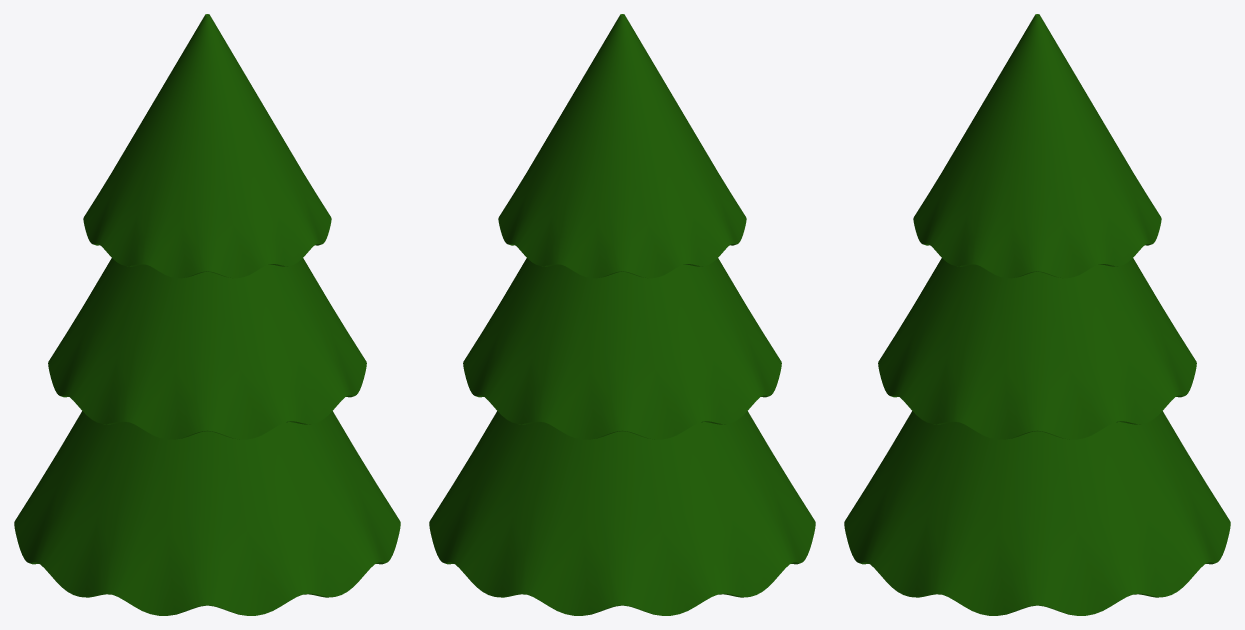
File: l_drzewo_choinka_1.fbx
3 views of the same model, side by side, from view 1: azimuth 30°, elevation 25°; view 2: azimuth 150°, elevation 25°; view 3: azimuth 270°, elevation 25° (orthographic).
Visible parts, largest first — view 1: roslinka.001; view 2: roslinka.001; view 3: roslinka.001.
Part boxes in pixels (x1=…): roslinka.001: x1=14, y1=14, x2=400, y2=615; roslinka.001: x1=429, y1=14, x2=815, y2=615; roslinka.001: x1=844, y1=14, x2=1230, y2=615.
Bounding box in the file's own units: 708 × 1143 × 708.
